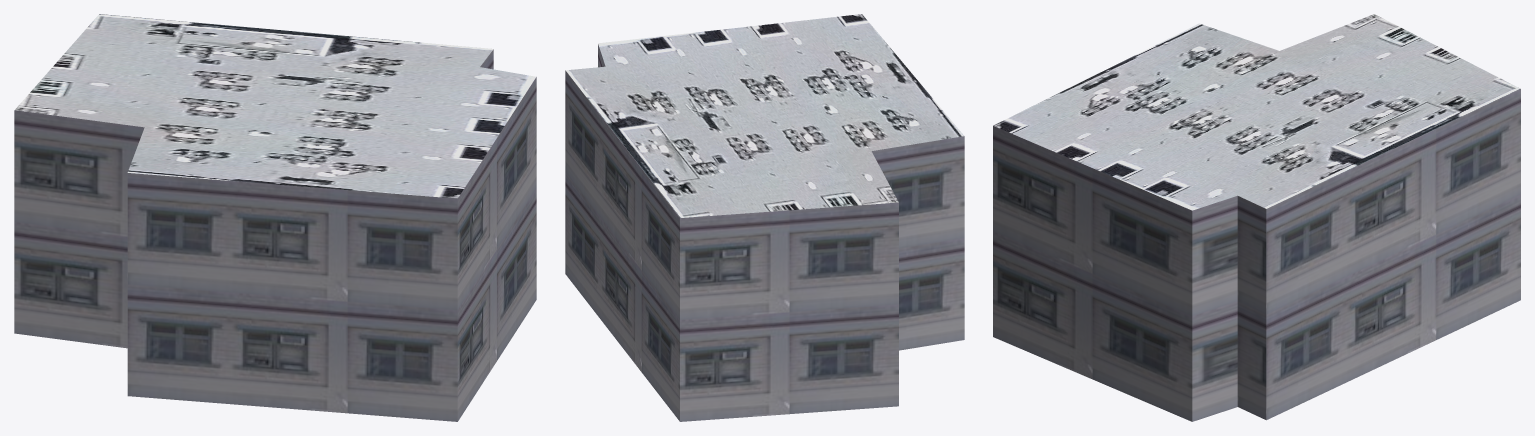
Rendered from ResTex__2855.fbx.
3 renders of one model, left to right at view 1: azimuth 30°, elevation 25°; view 2: azimuth 150°, elevation 25°; view 3: azimuth 270°, elevation 25°, orthographic. The views are drawn at different scales.
Visible parts, largest first — view 1: CityEngineMaterial_1_m, CityEngineMaterial_8_m; view 2: CityEngineMaterial_1_m, CityEngineMaterial_8_m; view 3: CityEngineMaterial_1_m, CityEngineMaterial_8_m.
Part boxes in pixels (x1,y1,x2,y2): CityEngineMaterial_1_m: [14, 49, 536, 421]; CityEngineMaterial_8_m: [15, 14, 535, 198]; CityEngineMaterial_1_m: [565, 44, 964, 421]; CityEngineMaterial_8_m: [566, 14, 963, 217]; CityEngineMaterial_1_m: [993, 89, 1520, 421]; CityEngineMaterial_8_m: [993, 14, 1520, 210].
Bounding box in the file's own units: 11.98 × 6 × 13.59.
Materials: 2 (2 with a texture image).
